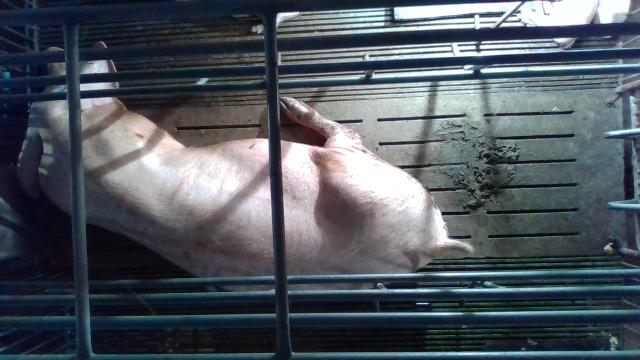piglet: (521, 0, 599, 49)
sow-sit: (17, 37, 476, 295)
